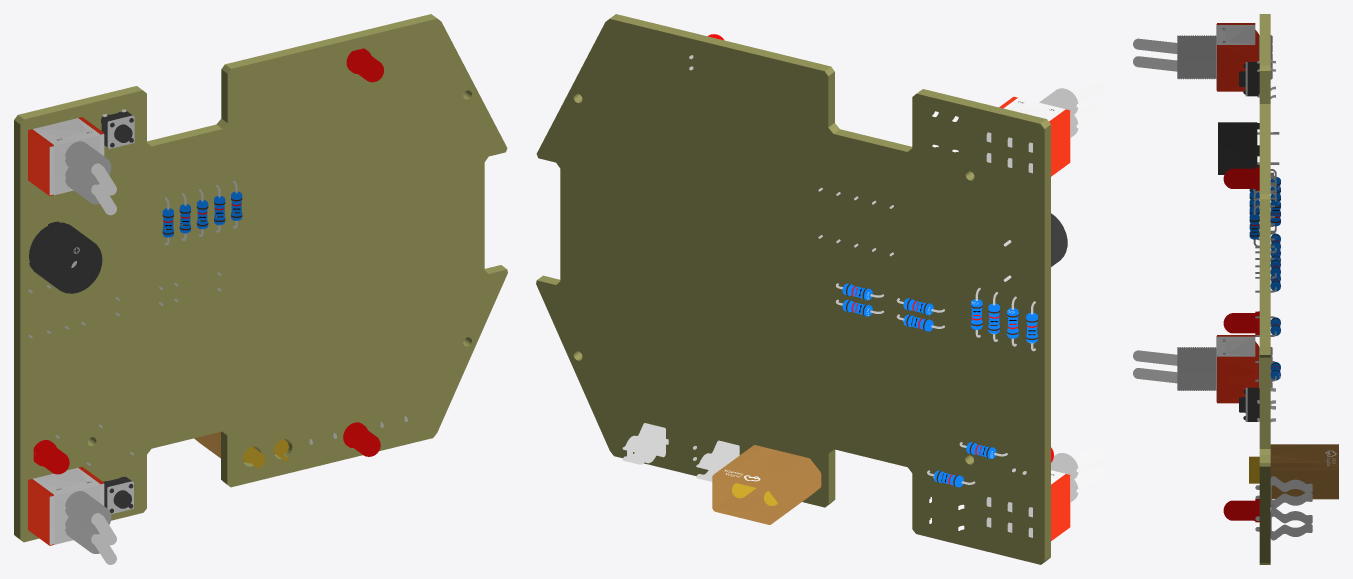
3 renders of one model, left to right at view 1: azimuth 30°, elevation 25°; view 2: azimuth 150°, elevation 25°; view 3: azimuth 270°, elevation 25°, orthographic. The views are drawn at different scales.
Size of the model in its own units: 450 by 373 by 185.
